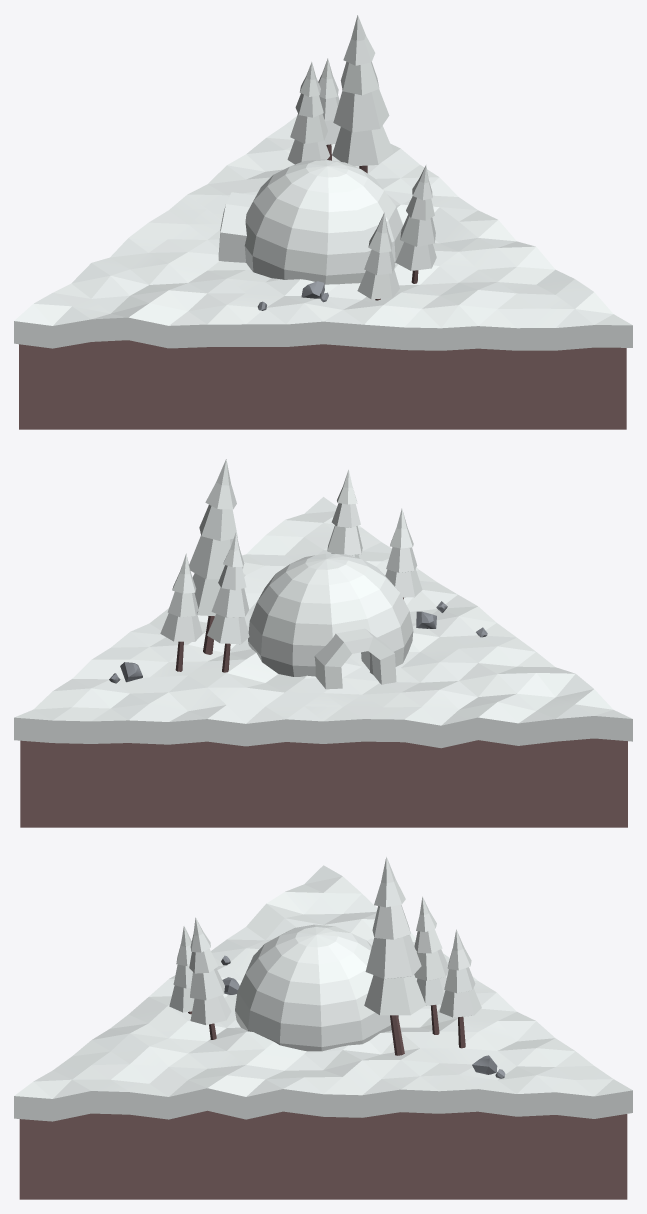
Rendered from TILE_05_03_Snow.fbx.
The picture shows the model from 3 angles, top to bottom: view 1: azimuth 30°, elevation 25°; view 2: azimuth 150°, elevation 25°; view 3: azimuth 270°, elevation 25°; orthographic projection.
Parts seen in each view (by area): view 1: TILESURFACE4, TILE5, pSphere2, pCylinder7, pCylinder8, pCylinder21, pCylinder9, pCylinder7 4, pCylinder7 3, pCylinder8 3, pCylinder10, pCylinder8 1 (+2 smaller); view 2: TILESURFACE4, TILE5, pSphere2, pCylinder21, pCylinder8, pCylinder9, pCylinder7 1, pCylinder7 2, pCylinder8 1, pCylinder8 3, pCylinder10, pCylinder7 (+6 smaller); view 3: TILESURFACE4, TILE5, pSphere2, pCylinder7, pCylinder8, pCylinder9, pCylinder7 2, pCylinder7 3, pCylinder8 3, pCylinder10, pCylinder8 1, pCylinder7 1 (+5 smaller).
Part boxes in pixels (x1,y1,x2,y2): TILESURFACE4: (14, 116, 632, 350); TILE5: (19, 340, 626, 429); pSphere2: (244, 159, 403, 284); pCylinder7: (332, 125, 393, 166); pCylinder8: (333, 89, 389, 132); pCylinder21: (218, 192, 256, 262); pCylinder9: (340, 61, 379, 95); pCylinder7 4: (357, 269, 399, 299); pCylinder7 3: (395, 242, 436, 270); pCylinder8 3: (400, 214, 435, 246); pCylinder10: (343, 15, 375, 65); pCylinder8 1: (290, 114, 327, 143); TILESURFACE4: (14, 497, 632, 748); TILE5: (20, 738, 627, 827); pSphere2: (248, 553, 413, 676); pCylinder21: (314, 628, 396, 689); pCylinder8: (189, 535, 243, 579); pCylinder9: (199, 505, 237, 541); pCylinder7 1: (207, 614, 249, 644); pCylinder7 2: (160, 613, 202, 641); pCylinder8 1: (211, 587, 249, 617); pCylinder8 3: (327, 525, 362, 555); pCylinder10: (205, 459, 236, 509); pCylinder7: (192, 573, 220, 616); TILESURFACE4: (14, 865, 632, 1121); TILE5: (19, 1110, 627, 1199); pSphere2: (235, 924, 398, 1051); pCylinder7: (364, 974, 425, 1015); pCylinder8: (365, 934, 421, 979); pCylinder9: (372, 904, 410, 939); pCylinder7 2: (439, 988, 481, 1017); pCylinder7 3: (190, 995, 231, 1024); pCylinder8 3: (190, 968, 224, 1000); pCylinder10: (374, 856, 405, 907); pCylinder8 1: (414, 949, 448, 980); pCylinder7 1: (417, 977, 446, 1005).
Size of the model in its own units: 153 by 94.85 by 176.
